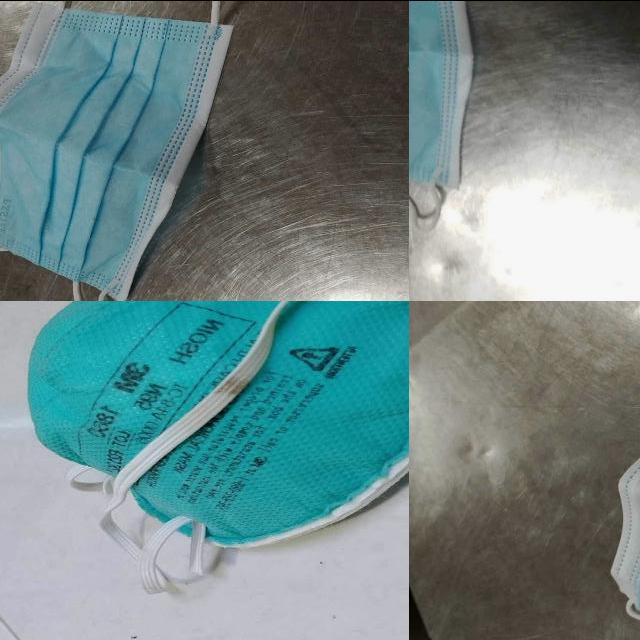General: (0, 1, 409, 592), (24, 296, 411, 594)
Infectious: (0, 0, 234, 299)
